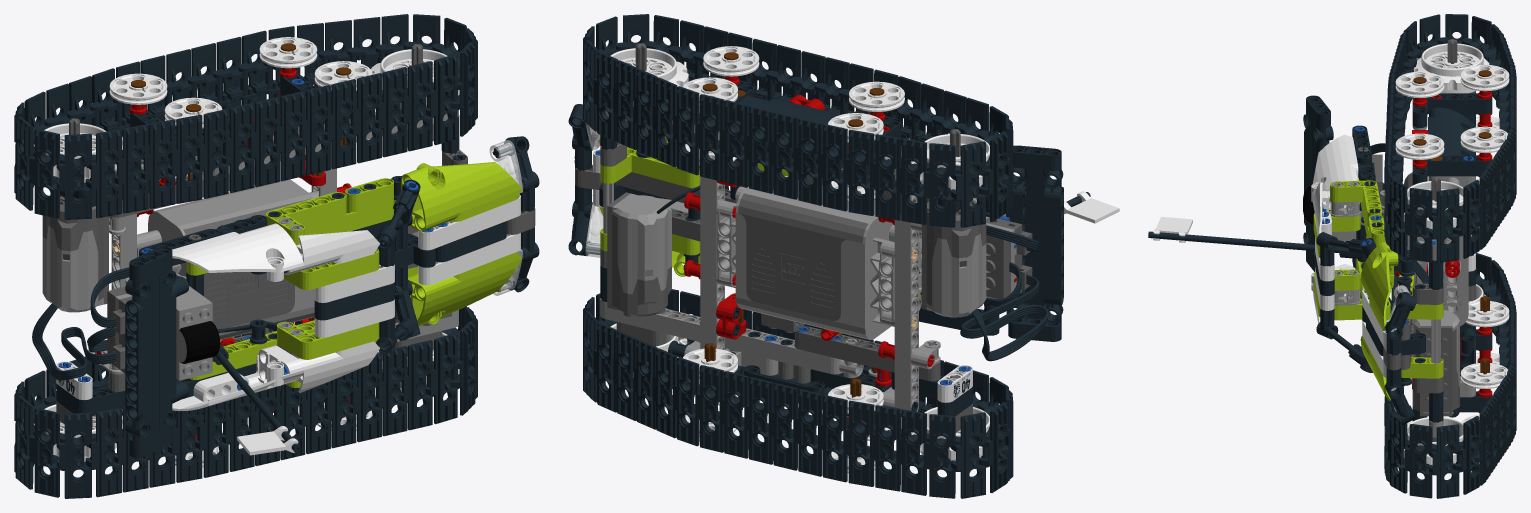
The model's file is lego_42065.glb.
The picture shows the model from 3 angles, left to right: view 1: azimuth 30°, elevation 25°; view 2: azimuth 150°, elevation 25°; view 3: azimuth 270°, elevation 25°; orthographic projection. The views are drawn at different scales.
Visible parts, largest first — view 1: e400, e627, e133, e543, e616, e414, e525, e615, e644, e681, e640, e599 (+82 smaller); view 2: e400, e627, e290, e133, e79, e61, e124, e52, e684, e647, e685, e648 (+74 smaller); view 3: e290, e627, e543, e521, e616, e701, e664, e628, e665, e95, e108, e104 (+58 smaller).
Boxes of the visible parts, x1,y1,x2,y2 form: e400: (137,179,318,342); e627: (125,246,176,457); e133: (42,195,108,312); e543: (401,162,522,231); e616: (172,223,303,281); e414: (107,286,220,380); e525: (408,252,522,326); e615: (172,345,303,411); e644: (56,133,95,219); e681: (56,412,95,498); e640: (168,114,203,203); e599: (296,230,379,270); e400: (716,181,921,339); e627: (1006,145,1063,341); e290: (607,192,671,316); e133: (921,200,986,317); e79: (894,169,918,412); e61: (600,298,841,374); e124: (700,176,724,349); e52: (794,325,940,381); e684: (950,412,989,498); e647: (950,141,989,227); e685: (923,414,960,498); e648: (923,143,960,227); e290: (1412,310,1459,416); e627: (1303,95,1333,271); e543: (1360,242,1398,330); e521: (1413,43,1489,93); e616: (1311,134,1360,209); e701: (1428,424,1463,498); e664: (1428,188,1463,262); e628: (1405,188,1436,262); e665: (1405,424,1436,498); e95: (1428,107,1475,155); e108: (1412,93,1492,127); e104: (1412,155,1491,185).
Bounding box in the file's own units: 0.2311 × 0.1664 × 0.1812.
